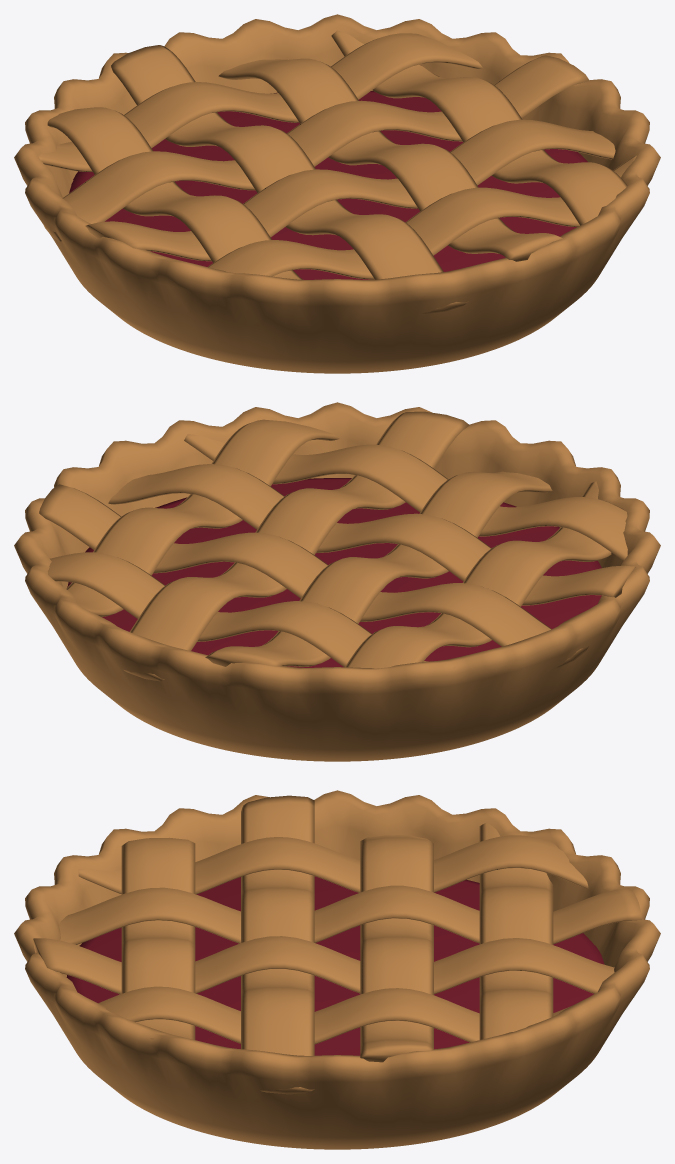
3 views of the same model, one above another, from view 1: azimuth 30°, elevation 25°; view 2: azimuth 150°, elevation 25°; view 3: azimuth 270°, elevation 25° (orthographic).
Parts seen in each view (by area): view 1: Complete crimped pastry shell, Woven pastry ribbon 0 2, Woven pastry ribbon 1 1, Woven pastry ribbon 0 1, Filling inside pastry shell, Woven pastry ribbon 1 2, Woven pastry ribbon 0 3, Woven pastry ribbon 1 3, Woven pastry ribbon 0 0, Woven pastry ribbon 1 0; view 2: Complete crimped pastry shell, Woven pastry ribbon 1 2, Woven pastry ribbon 0 2, Woven pastry ribbon 0 1, Filling inside pastry shell, Woven pastry ribbon 1 1, Woven pastry ribbon 0 0, Woven pastry ribbon 1 3, Woven pastry ribbon 1 0, Woven pastry ribbon 0 3; view 3: Complete crimped pastry shell, Woven pastry ribbon 0 1, Woven pastry ribbon 1 1, Woven pastry ribbon 1 2, Filling inside pastry shell, Woven pastry ribbon 0 2, Woven pastry ribbon 1 0, Woven pastry ribbon 0 3, Woven pastry ribbon 1 3, Woven pastry ribbon 0 0.
Boxes of the visible parts, x1,y1,x2,y2 form: Complete crimped pastry shell: (14, 14, 660, 373); Woven pastry ribbon 0 2: (43, 55, 589, 241); Woven pastry ribbon 1 1: (111, 45, 468, 314); Woven pastry ribbon 0 1: (85, 119, 615, 261); Filling inside pastry shell: (69, 91, 587, 279); Woven pastry ribbon 1 2: (218, 58, 563, 261); Woven pastry ribbon 0 3: (38, 33, 483, 171); Woven pastry ribbon 1 3: (331, 30, 627, 225); Woven pastry ribbon 0 0: (208, 155, 640, 279); Woven pastry ribbon 1 0: (47, 107, 302, 289); Complete crimped pastry shell: (14, 402, 660, 761); Woven pastry ribbon 1 2: (124, 411, 469, 681); Woven pastry ribbon 0 2: (39, 484, 588, 668); Woven pastry ribbon 0 1: (108, 464, 635, 605); Filling inside pastry shell: (67, 478, 601, 667); Woven pastry ribbon 1 1: (205, 471, 552, 666); Woven pastry ribbon 0 0: (184, 434, 627, 560); Woven pastry ribbon 1 3: (66, 419, 339, 616); Woven pastry ribbon 1 0: (345, 481, 611, 668); Woven pastry ribbon 0 3: (47, 552, 457, 668); Complete crimped pastry shell: (14, 790, 660, 1149); Woven pastry ribbon 0 1: (241, 795, 314, 1094); Woven pastry ribbon 1 1: (59, 885, 641, 944); Woven pastry ribbon 1 2: (33, 936, 614, 994); Filling inside pastry shell: (66, 876, 604, 1055); Woven pastry ribbon 0 2: (360, 835, 433, 1062); Woven pastry ribbon 1 0: (78, 835, 588, 894); Woven pastry ribbon 0 3: (479, 822, 553, 1039); Woven pastry ribbon 1 3: (98, 986, 579, 1044); Woven pastry ribbon 0 0: (121, 837, 195, 1039).
Bounding box in the file's own units: 0.1844 × 0.0412 × 0.1844.
